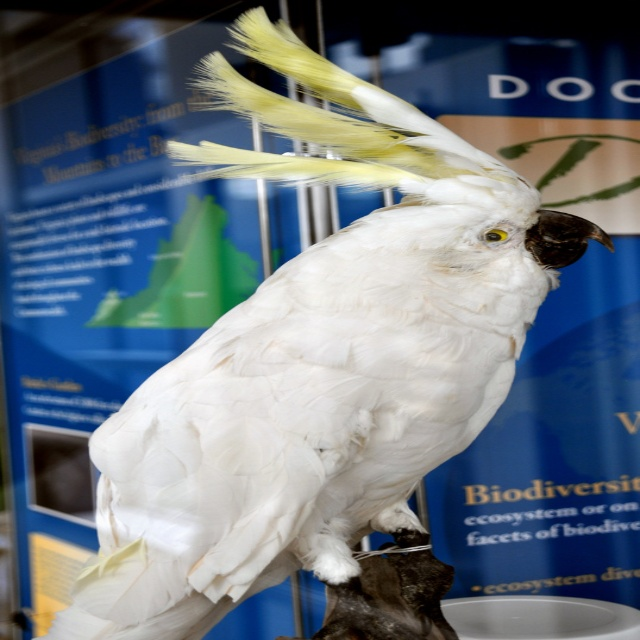Parrot: (31, 6, 615, 640)
